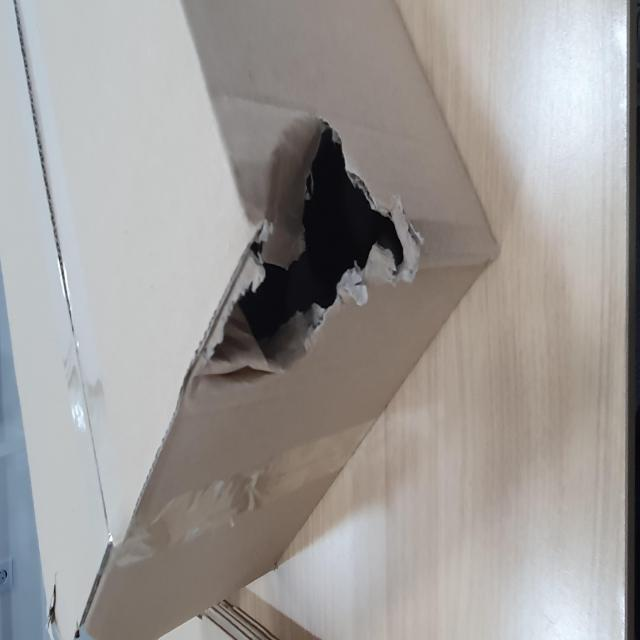damaged: (142, 354, 302, 640)
